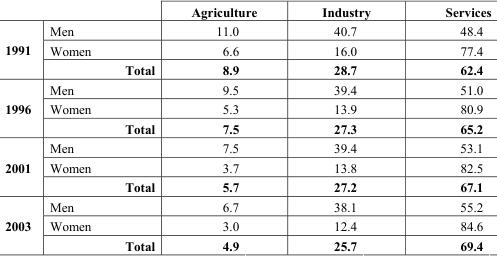table: (4, 3, 490, 252)
table column: (39, 3, 172, 252), (288, 3, 407, 252), (172, 3, 288, 252), (407, 3, 490, 252), (4, 3, 39, 252)
table column header: (4, 3, 490, 20)
table row: (4, 20, 490, 40), (4, 40, 490, 60), (4, 79, 490, 99), (4, 118, 490, 138), (4, 157, 490, 177), (4, 196, 490, 216), (4, 60, 490, 79), (4, 99, 490, 118), (4, 138, 490, 157), (4, 177, 490, 196), (4, 216, 490, 235), (4, 3, 490, 20), (4, 235, 490, 252)
table spanning cell: (4, 20, 39, 79), (4, 79, 39, 138), (4, 138, 39, 196), (4, 196, 39, 252)
